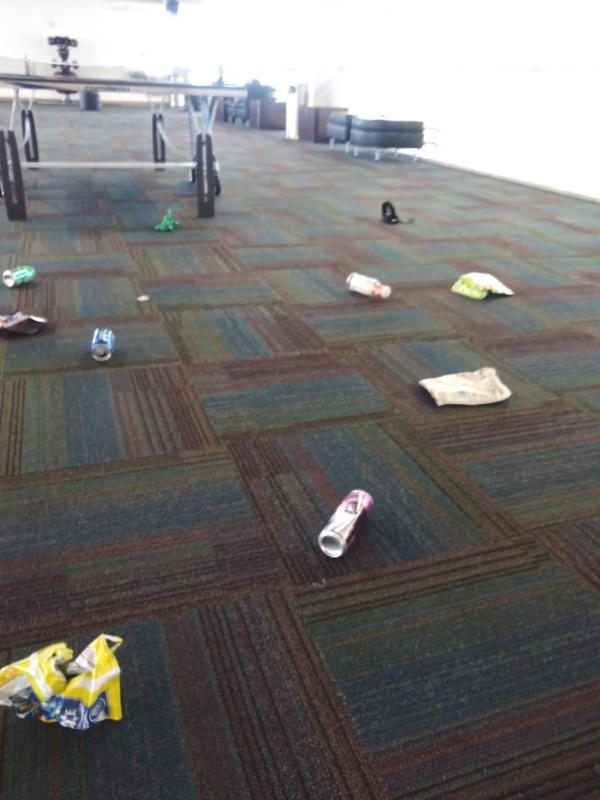bag: (1, 627, 127, 733), (415, 360, 513, 414), (443, 269, 518, 303), (1, 308, 54, 340)
bottle: (341, 270, 395, 303)
can: (314, 485, 379, 566), (88, 320, 119, 363), (2, 258, 38, 290)
